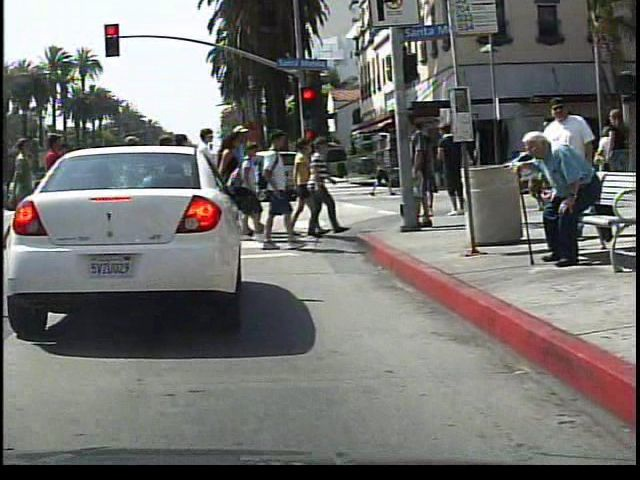person: (512, 129, 606, 272), (366, 139, 393, 196)
